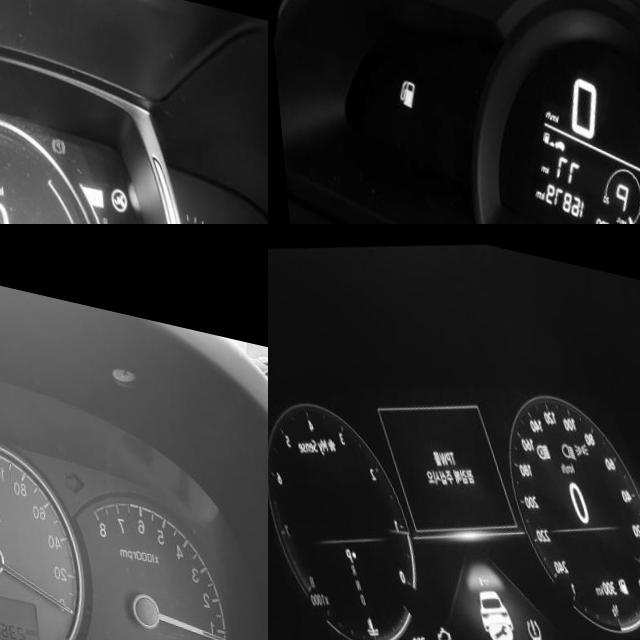Low beam: (557, 423, 576, 447)
Low fuel level: (392, 68, 415, 104)
SideLamp: (570, 423, 588, 443)
